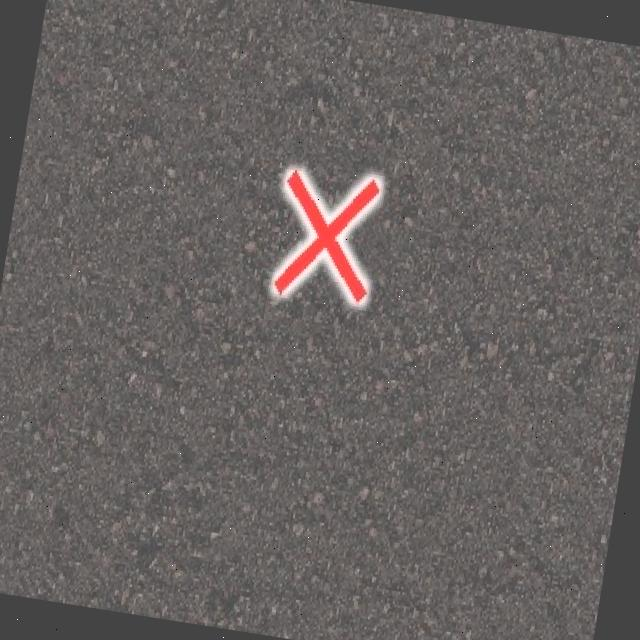x_marker: (269, 165, 382, 304)
